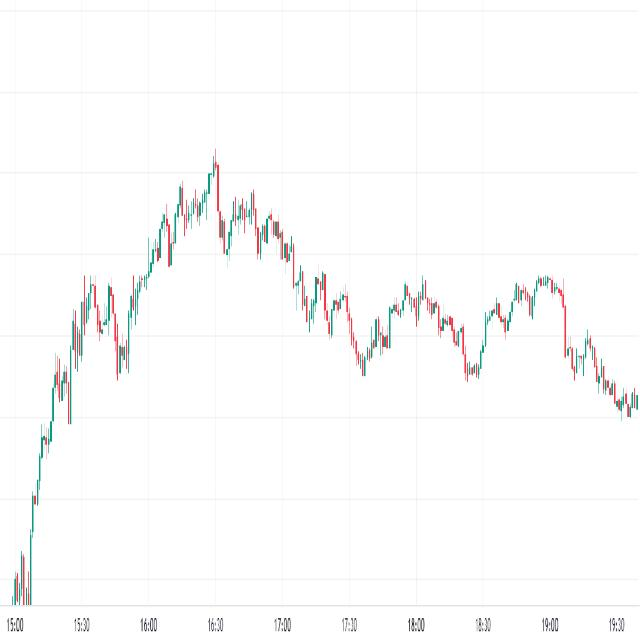Rounding-Top: (123, 134, 334, 336), (362, 270, 472, 368)
